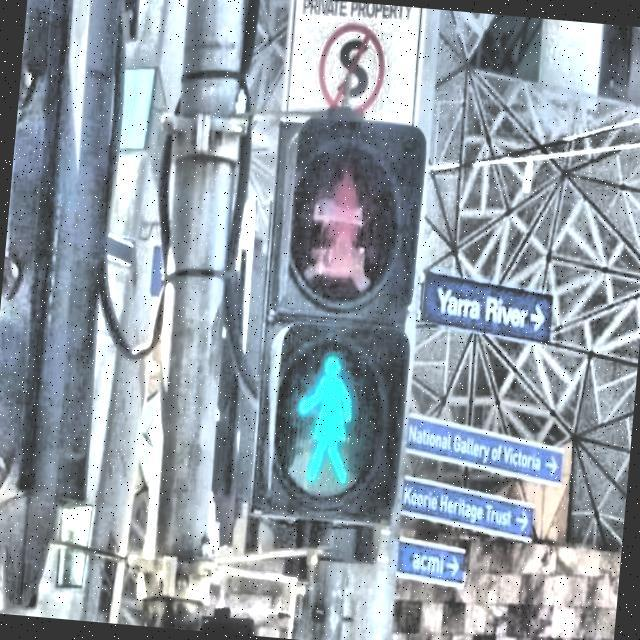green_light: (289, 346, 360, 485)
